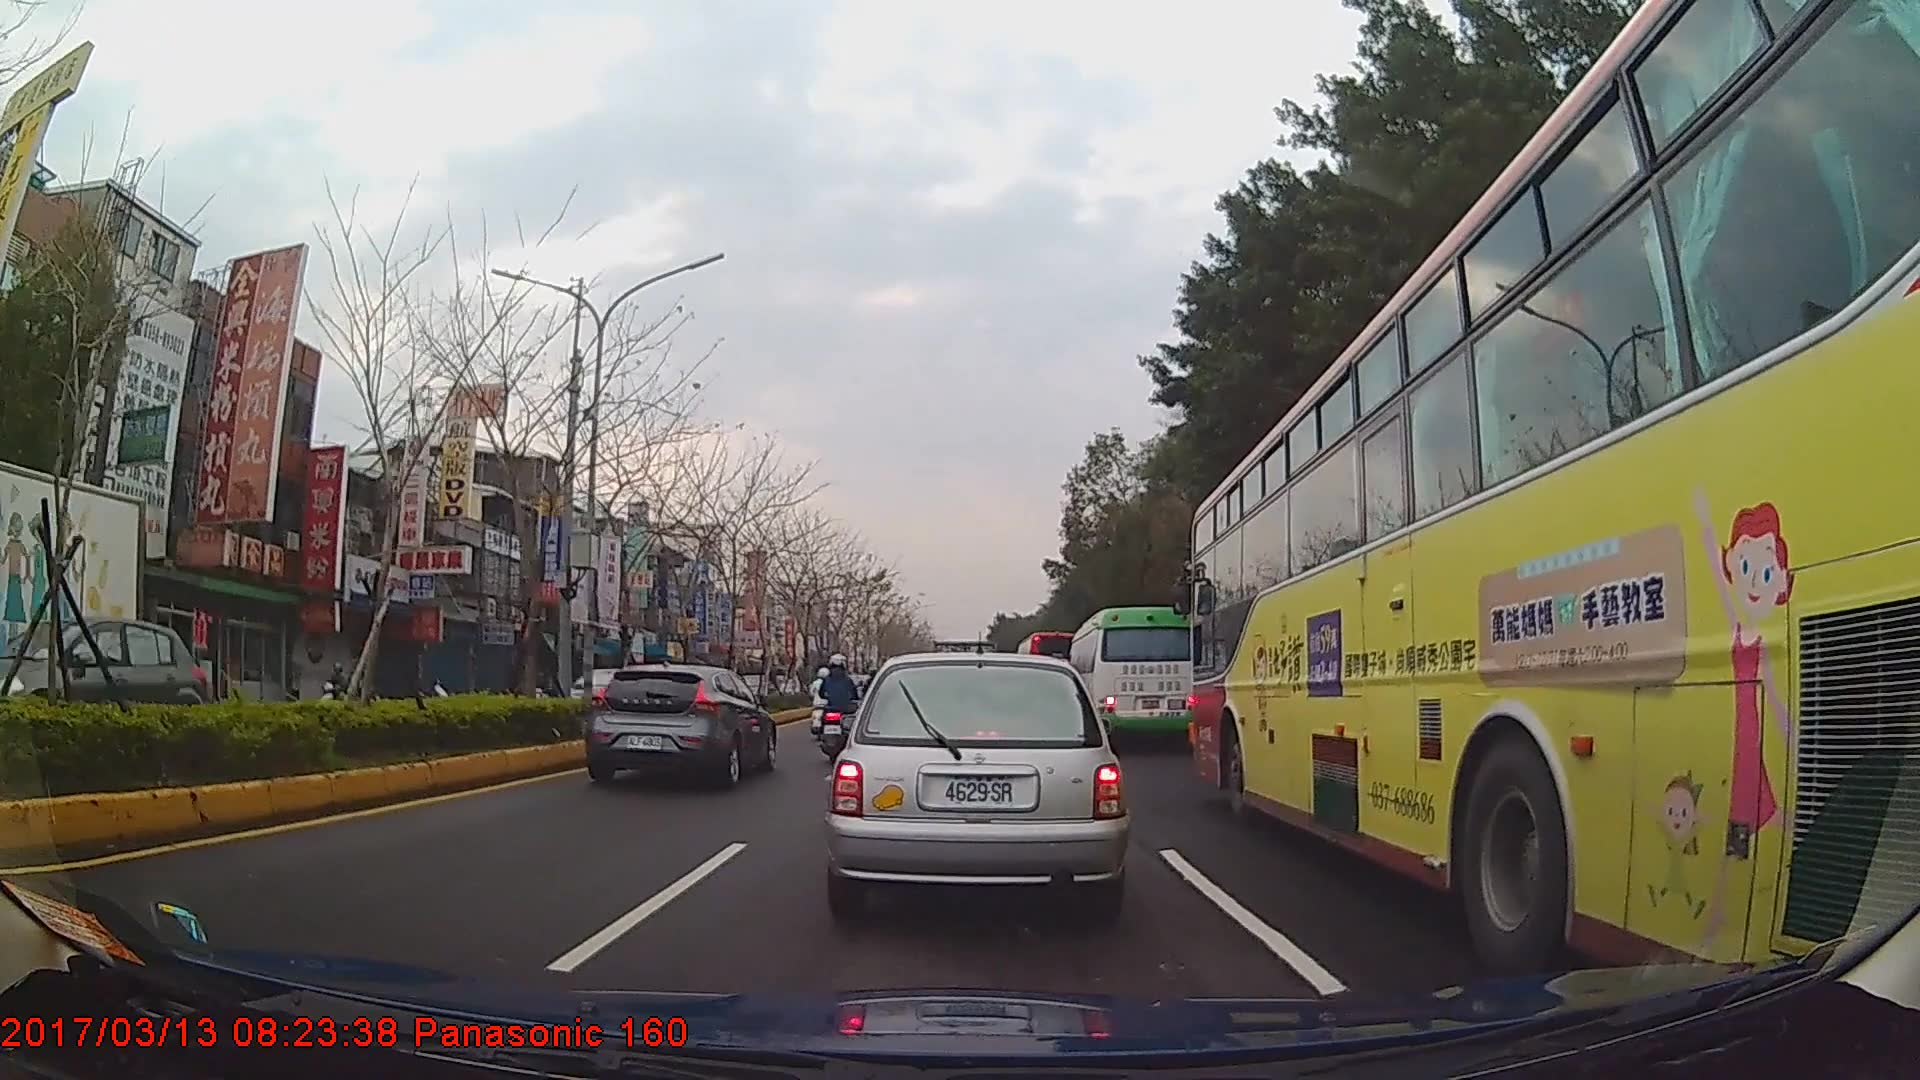rider: (817, 654, 862, 750), (321, 663, 348, 705)
vehicle: (1183, 0, 1920, 1031), (827, 648, 1128, 925), (0, 456, 145, 748), (4, 616, 206, 750), (582, 663, 778, 792), (1065, 606, 1197, 749), (1013, 630, 1083, 707)
